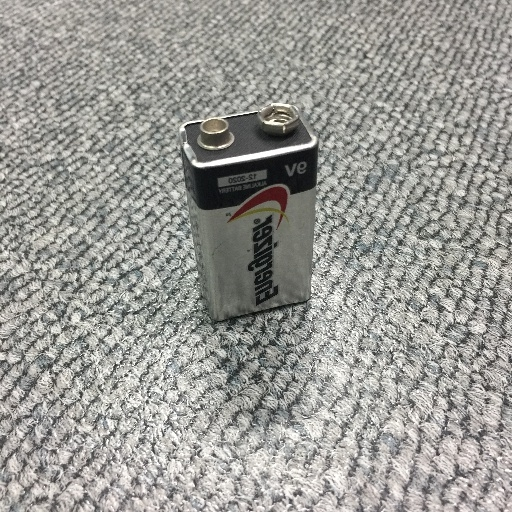Battery_3: (161, 87, 345, 344)
